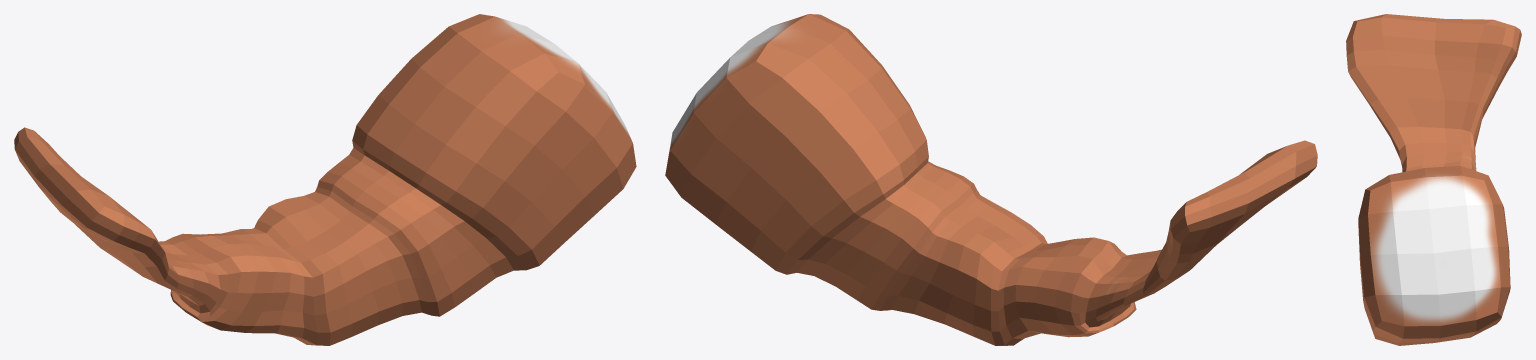
Rendered from CookedShrimp.fbx.
The picture shows the model from 3 angles, left to right: view 1: azimuth 30°, elevation 25°; view 2: azimuth 150°, elevation 25°; view 3: azimuth 270°, elevation 25°; orthographic projection. The views are drawn at different scales.
Visible parts, largest first — view 1: Cube; view 2: Cube; view 3: Cube.
Boxes of the visible parts, x1,y1,x2,y2 form: Cube: (14, 14, 636, 345); Cube: (665, 14, 1317, 345); Cube: (1346, 14, 1521, 345).
Bounding box in the file's own units: 685 × 287 × 228.
